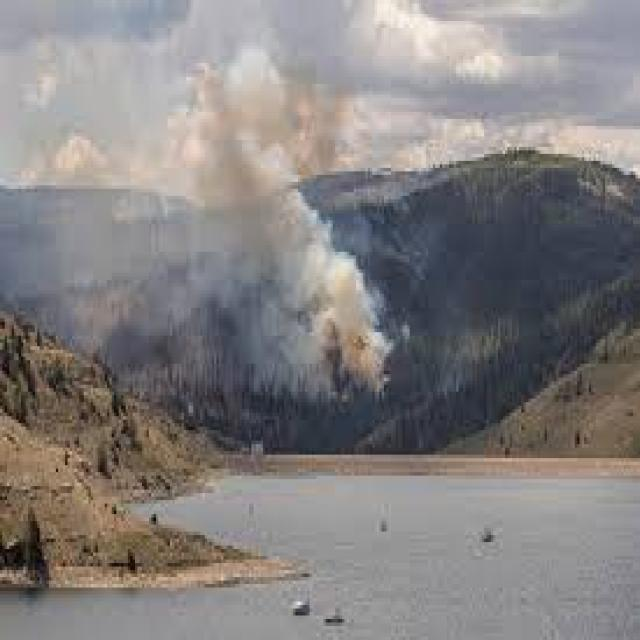Smoke: (148, 41, 402, 416)
